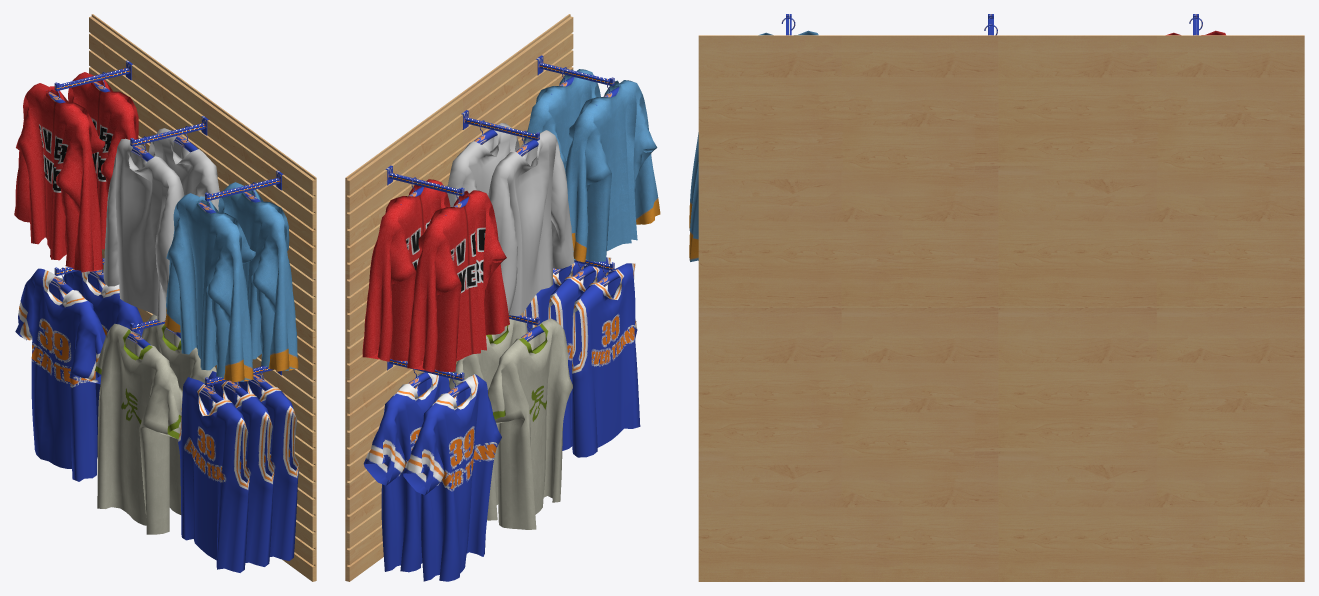
Rendered from clothesRack.FBX.
The picture shows the model from 3 angles, left to right: view 1: azimuth 30°, elevation 25°; view 2: azimuth 150°, elevation 25°; view 3: azimuth 270°, elevation 25°; orthographic projection. The views are drawn at different scales.
Visible parts, largest first — view 1: Arch_44__045_6, Arch_44__045_23, Arch_44__045_27, Arch_44__045_31, Arch_44__045_9, Arch_44__045_13, Arch_44__045_29, Arch_44__045_12, Arch_44__045_16, Arch_44__045_25, Arch_44__045_2, Arch_44__045_1 (+3 smaller); view 2: Arch_44__045_6, Arch_44__045_23, Arch_44__045_13, Arch_44__045_31, Arch_44__045_9, Arch_44__045_27, Arch_44__045_29, Arch_44__045_16, Arch_44__045_1, Arch_44__045_12, Arch_44__045_2, Arch_44__045_25 (+3 smaller); view 3: Arch_44__045_6.
Part boxes in pixels (x1,y1,x2,y2): Arch_44__045_6: (89, 14, 316, 581); Arch_44__045_23: (178, 371, 298, 572); Arch_44__045_27: (95, 323, 182, 534); Arch_44__045_31: (15, 268, 105, 481); Arch_44__045_9: (164, 193, 255, 382); Arch_44__045_13: (14, 83, 105, 272); Arch_44__045_29: (103, 138, 184, 322); Arch_44__045_12: (218, 182, 298, 371); Arch_44__045_16: (68, 72, 138, 249); Arch_44__045_25: (141, 314, 216, 514); Arch_44__045_2: (148, 128, 219, 211); Arch_44__045_1: (63, 269, 143, 456); Arch_44__045_6: (345, 14, 573, 581); Arch_44__045_23: (523, 257, 640, 457); Arch_44__045_13: (407, 190, 509, 372); Arch_44__045_31: (402, 374, 501, 581); Arch_44__045_9: (565, 80, 660, 262); Arch_44__045_27: (488, 318, 572, 529); Arch_44__045_29: (488, 130, 574, 316); Arch_44__045_16: (362, 179, 450, 361); Arch_44__045_1: (363, 372, 450, 572); Arch_44__045_12: (523, 69, 600, 171); Arch_44__045_2: (447, 123, 519, 206); Arch_44__045_25: (449, 314, 527, 520); Arch_44__045_6: (698, 35, 1304, 581).
Bounding box in the file's own units: 24.68 × 97.07 × 99.12.
